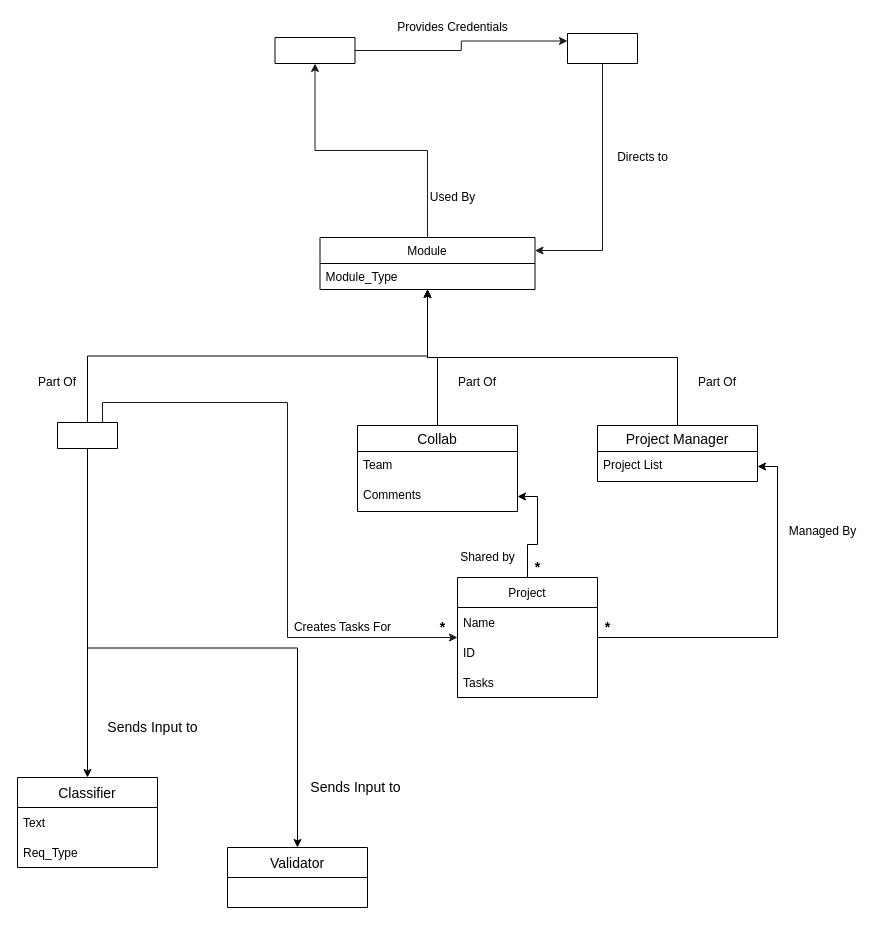
This 880x925 diagram has some shape labels left out. The centre of each missing label's shape, as x and y in pixels:
"Editor" goes at (87,435).
"Sign-In" goes at (602,48).
"User" goes at (314,50).
